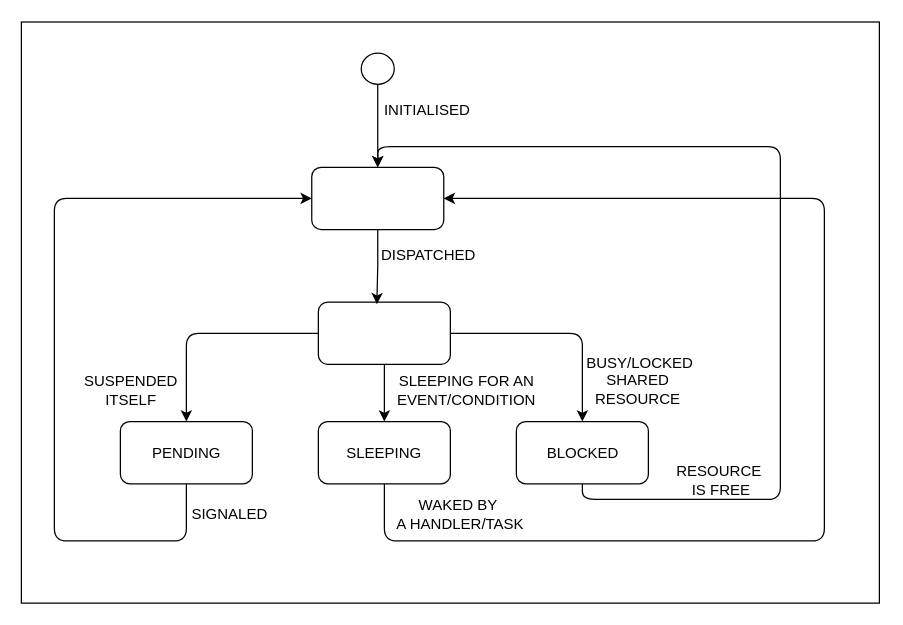
Image size: 903x625. Some labels were removed from this diagram. Each missing label, with the box of its shape:
READY: (310, 166, 444, 230)
RUNNING: (317, 301, 450, 364)
